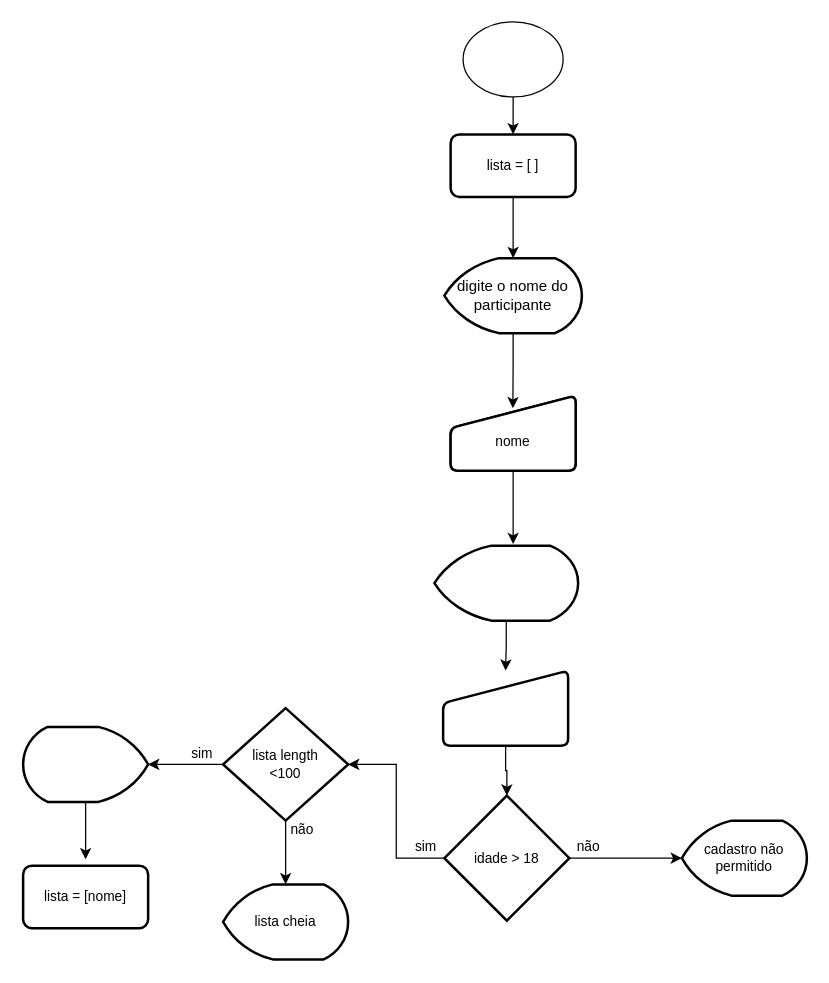
This 829x983 diagram has some shape labels left out. Here are the shapes that lost their labels. From the top down, the centre of each, then its label:
(512,59): inicio
(505,582): digite a idade dele
(505,707): idade
(85,763): cadastro permitido
